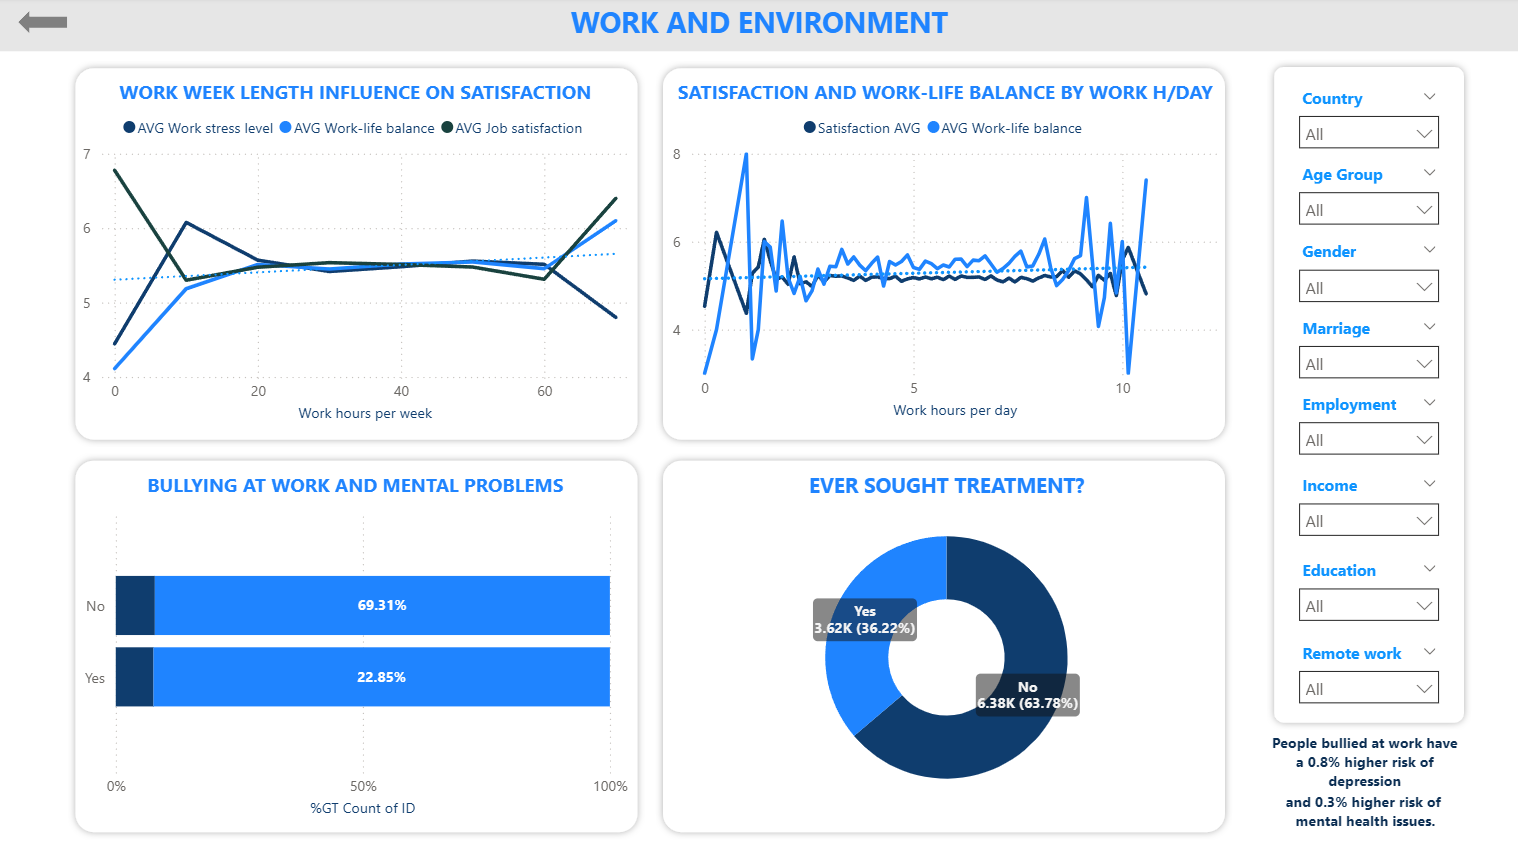

This screenshot's page, from the dashboard's own definition file:
{"tool":"powerbi","page":{"name":"Work & Environment","canvas":[1280,720],"ordinal":2},"visuals":[{"type":"shape","box":[1066.7,52.1,172,563.5],"z":0},{"type":"shape","box":[552.6,383.3,484.9,324.8],"z":1000},{"type":"shape","box":[58.6,383.3,484.9,324.8],"z":2000},{"type":"shape","box":[58.5,53.1,484.9,324.8],"z":3000},{"type":"shape","box":[552.6,53.1,484.9,324.8],"z":4000},{"type":"slicer","fields":{"Values":["country.Country"]},"box":[1082.8,70.4,138.1,65.9],"z":5000},{"type":"slicer","fields":{"Values":["education.Education"]},"box":[1083.5,467.4,138.1,69.5],"z":6000},{"type":"slicer","fields":{"Values":["employment.Employment_Status"]},"box":[1083.2,328,138.1,71.4],"z":7000},{"type":"slicer","fields":{"Values":["gender.Gender"]},"box":[1083.2,199.9,138.1,65],"z":8000},{"type":"slicer","fields":{"Values":["income.Income_Level"]},"box":[1083.5,396.1,138.1,71.4],"z":9000},{"type":"slicer","fields":{"Values":["mariage.Marital_Status"]},"box":[1083.2,264,138.1,65],"z":10000},{"type":"slicer","fields":{"Values":["mental_health.Age_Group"]},"box":[1083.2,135,138.1,65.9],"z":11000},{"type":"textbox","box":[0,0,1279.8,45.7],"z":12000},{"type":"shape","box":[17.3,11.5,41.3,19.2],"z":13000},{"type":"areaChart","title":"WORK WEEK LENGTH INFLUENCE ON SATISFACTION","fields":{"Y":["Avg(mental_health.Work_Stress_Level)","Avg(mental_health.Work_Life_Balance)","Avg(mental_health.Job_Satisfaction)"],"Category":["mental_health.Work_Hours_Per_Week (bins)"]},"box":[66.3,68.3,468.3,294.2],"z":14000},{"type":"hundredPercentStackedBarChart","title":"BULLYING AT WORK AND MENTAL PROBLEMS","fields":{"Category":["mental_health.Ever_Bullied_At_Work"],"Y":["CountNonNull(mental_health.ID)"],"Series":["mental_health.Has_Mental_Health_Issue"]},"box":[66.3,398.1,468.3,296.2],"z":15000},{"type":"donutChart","title":"EVER SOUGHT TREATMENT?","fields":{"Category":["mental_health.Ever_Sought_Treatment"],"Y":["CountNonNull(mental_health.ID)"]},"box":[562.6,397.9,468.4,296.4],"z":16000},{"type":"lineChart","title":"SATISFACTION AND WORK-LIFE BALANCE BY WORK H/DAY","fields":{"Y":["mental_health.Satisfaction_AVG","Avg(mental_health.Work_Life_Balance)"],"Category":["mental_health.Work_Hours_Per_Day"]},"box":[562.5,68.3,468.3,291.3],"z":17000},{"type":"card","fields":{"Values":["mental_health.Bullying_Insight_Text"]},"box":[1065.8,603.7,167.4,74.1],"z":18000},{"type":"card","fields":{"Values":["mental_health.Mental_Health_Issues_Insight_Text"]},"box":[1068.5,654,161.9,60.4],"z":19000},{"type":"slicer","fields":{"Values":["mental_health.Remote_Work"]},"box":[1083.1,537,138.1,69.5],"z":20000}]}

Visuals, with their boxes in screenshot pixels (x1, y1, x2, y2), scaled from the page's 1280x720 canvas onto the 1518x850 screenshot:
shape: left=1265, top=62, right=1469, bottom=727
shape: left=655, top=453, right=1230, bottom=836
shape: left=69, top=453, right=645, bottom=836
shape: left=69, top=63, right=644, bottom=446
shape: left=655, top=63, right=1230, bottom=446
slicer - country.Country: left=1284, top=83, right=1448, bottom=161
slicer - education.Education: left=1285, top=552, right=1449, bottom=634
slicer - employment.Employment_Status: left=1285, top=387, right=1448, bottom=472
slicer - gender.Gender: left=1285, top=236, right=1448, bottom=313
slicer - income.Income_Level: left=1285, top=468, right=1449, bottom=552
slicer - mariage.Marital_Status: left=1285, top=312, right=1448, bottom=388
slicer - mental_health.Age_Group: left=1285, top=159, right=1448, bottom=237
textbox: left=0, top=0, right=1517, bottom=54
shape: left=21, top=14, right=69, bottom=36
"WORK WEEK LENGTH INFLUENCE ON SATISFACTION" areaChart: left=79, top=81, right=634, bottom=428
"BULLYING AT WORK AND MENTAL PROBLEMS" hundredPercentStackedBarChart: left=79, top=470, right=634, bottom=820
"EVER SOUGHT TREATMENT?" donutChart: left=667, top=470, right=1223, bottom=820
"SATISFACTION AND WORK-LIFE BALANCE BY WORK H/DAY" lineChart: left=667, top=81, right=1222, bottom=425
card - mental_health.Bullying_Insight_Text: left=1264, top=713, right=1462, bottom=800
card - mental_health.Mental_Health_Issues_Insight_Text: left=1267, top=772, right=1459, bottom=843
slicer - mental_health.Remote_Work: left=1284, top=634, right=1448, bottom=716
